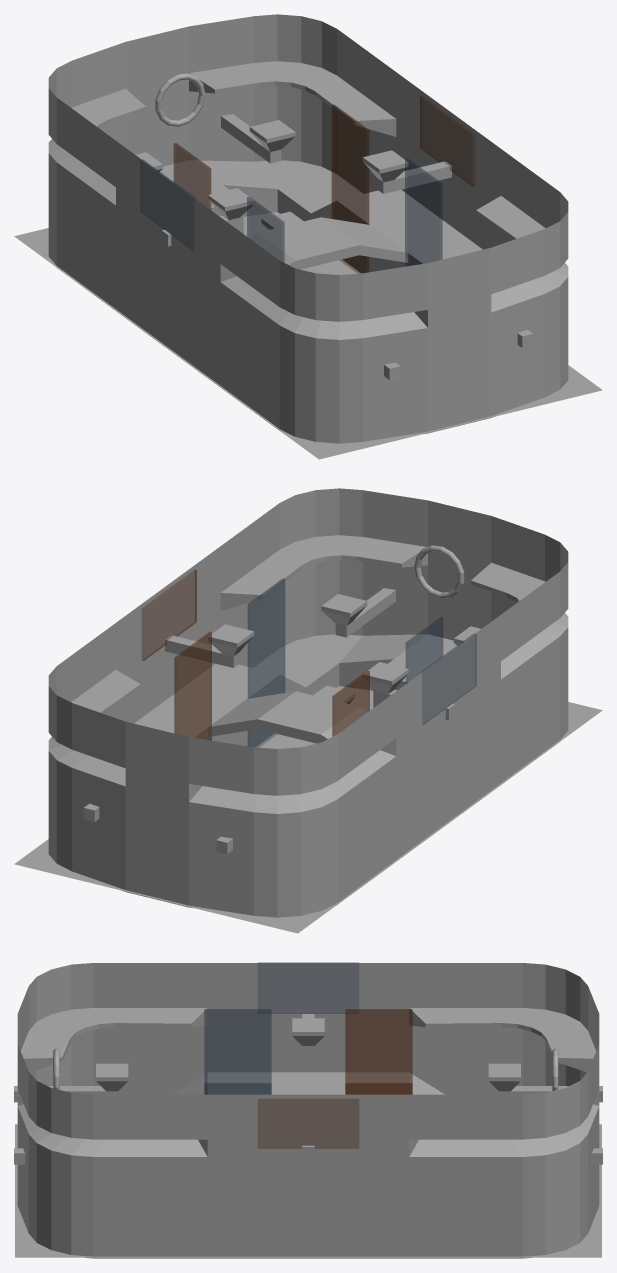
File: SkyshotArenaConcept2.fbx
3 views of the same model, one above another, from view 1: azimuth 30°, elevation 25°; view 2: azimuth 150°, elevation 25°; view 3: azimuth 270°, elevation 25° (orthographic). The views are drawn at different scales.
Parts seen in each view (by area): view 1: polySurface1, polySurface14, pCube11, pCube12, polySurface17, polySurface18, polySurface19, polySurface11, pCube10, pCube9, polySurface6, polySurface15; view 2: polySurface1, polySurface14, pCube12, pCube11, polySurface17, polySurface18, polySurface19, polySurface8, pCube10, pCube9, polySurface6, polySurface16; view 3: polySurface1, pCube9, pCube10, polySurface17, polySurface18, polySurface14, polySurface2, polySurface5, polySurface6, pCube11, pCube12.
Part boxes in pixels (x1,y1,x2,y2): polySurface1: (48,14,568,443); polySurface14: (14,212,602,459); pCube11: (331,104,369,273); pCube12: (405,158,442,266); polySurface17: (140,159,195,250); polySurface18: (420,95,474,186); polySurface19: (362,150,451,193); polySurface11: (221,114,295,163); pCube10: (173,143,211,209); pCube9: (247,197,284,262); polySurface6: (161,188,254,246); polySurface15: (155,73,205,126); polySurface1: (48,488,568,917); polySurface14: (14,686,602,933); pCube12: (248,578,284,747); pCube11: (174,632,211,740); polySurface17: (421,633,476,724); polySurface18: (142,569,196,660); polySurface19: (165,624,254,667); polySurface8: (321,588,395,637); pCube10: (332,670,369,736); pCube9: (406,617,442,683); polySurface6: (362,662,455,720); polySurface16: (414,545,464,598); polySurface1: (17,963,599,1258); pCube9: (204,1009,271,1094); pCube10: (345,1009,412,1094); polySurface17: (258,962,358,1013); polySurface18: (258,1099,358,1148); polySurface14: (15,1124,601,1257); polySurface2: (14,1063,128,1102); polySurface5: (488,1063,602,1102); polySurface6: (292,1014,324,1056); pCube11: (345,1083,412,1094); pCube12: (204,1083,271,1094).
Bounding box in the file's own units: 26 × 15.08 × 48.
